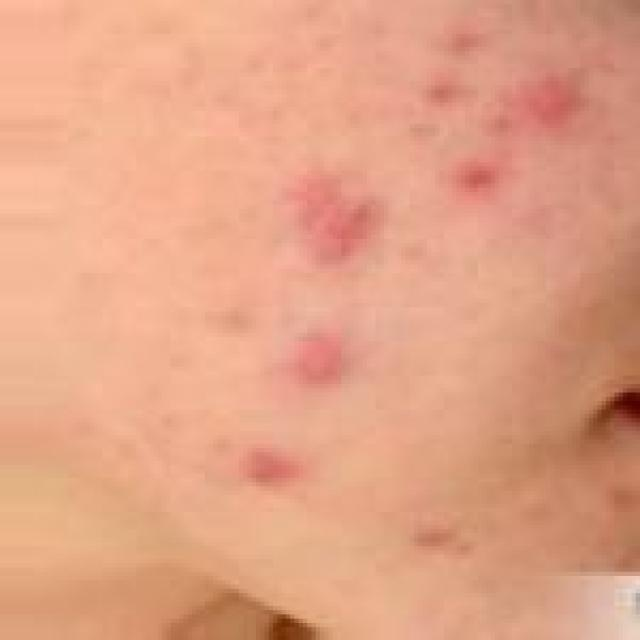acne: (299, 190, 376, 262), (282, 327, 352, 388), (234, 440, 312, 494), (444, 17, 524, 62), (571, 482, 640, 520), (528, 92, 594, 130), (410, 76, 470, 112), (457, 150, 509, 188)
